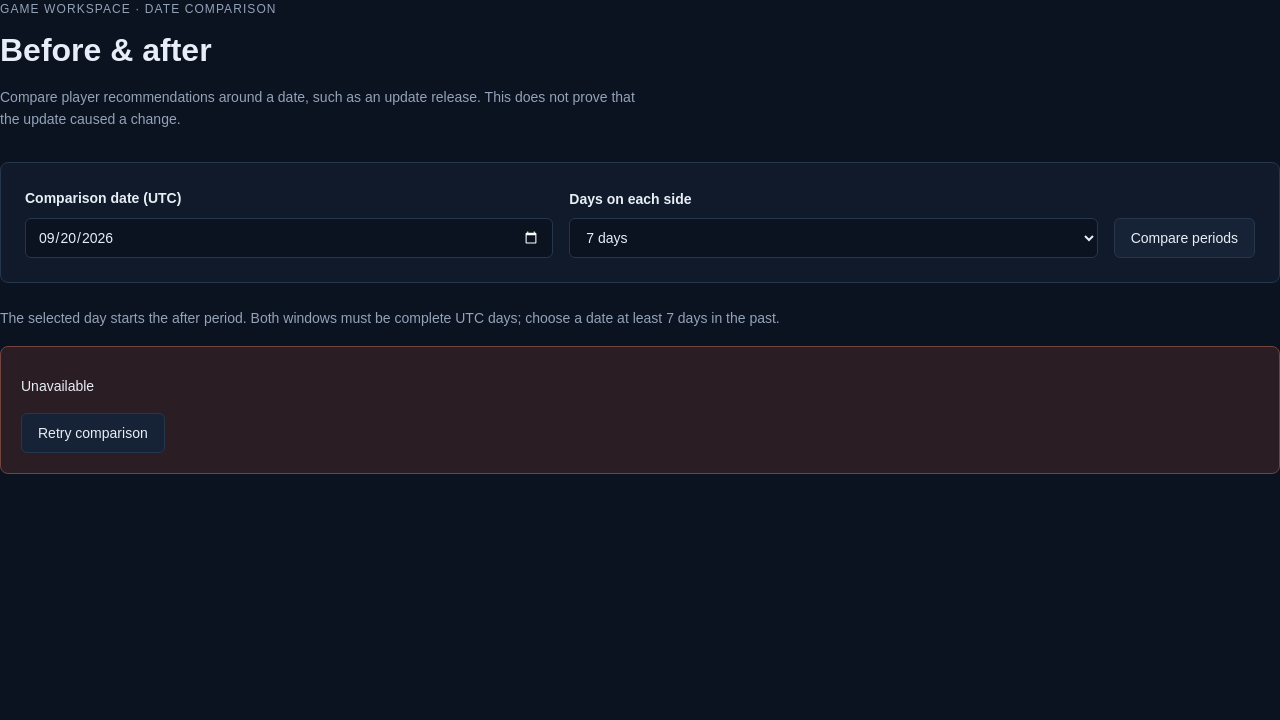
Test: shows an API failure and supports retry
Check: the message "Unavailable Retry comparison" is shown, box [0,346,1279,474]
Click the button "Retry comparison": (93, 433) [21,413,165,453]
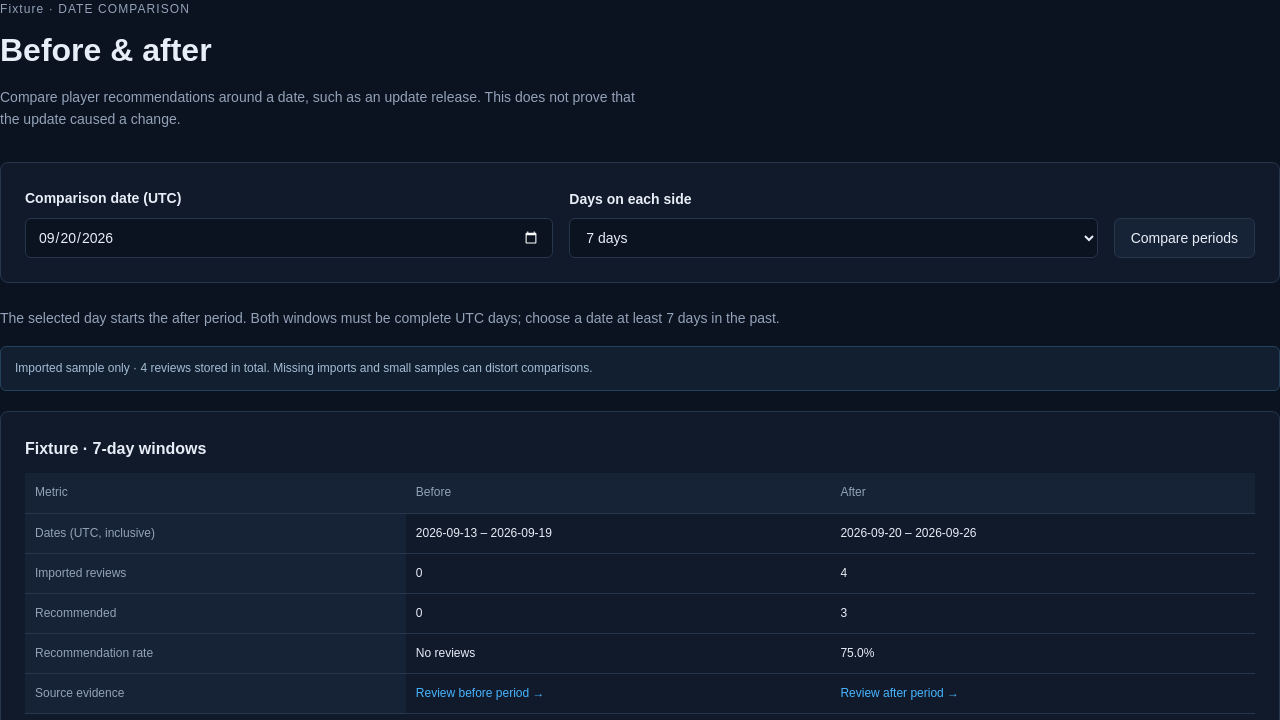
Check: the text "75.0%" is shown, box [830,634,1255,674]
